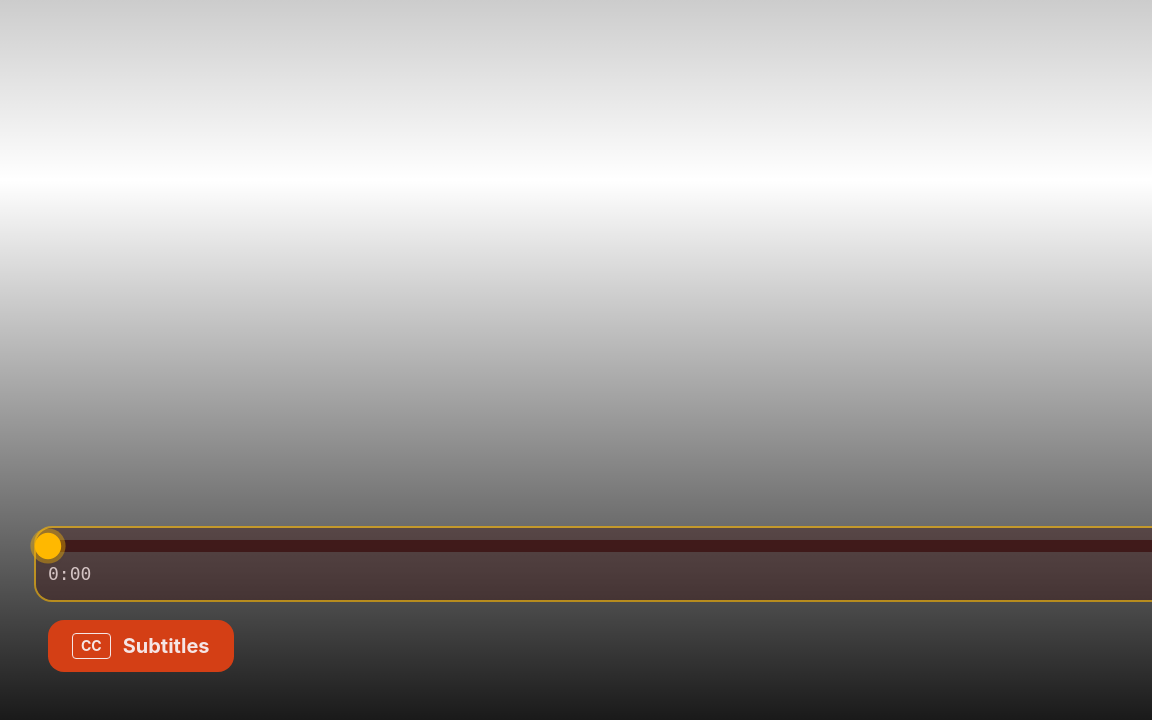
Test: PlayerScreen subtitle delay end-to-end via modal › reports a problem in the Timing tab when the subtitle file cannot be downloaded
(page scrolled)
Click the button with test id "subtitles-button" at [141, 646], box top-left (48, 620), bottom-right (234, 672)
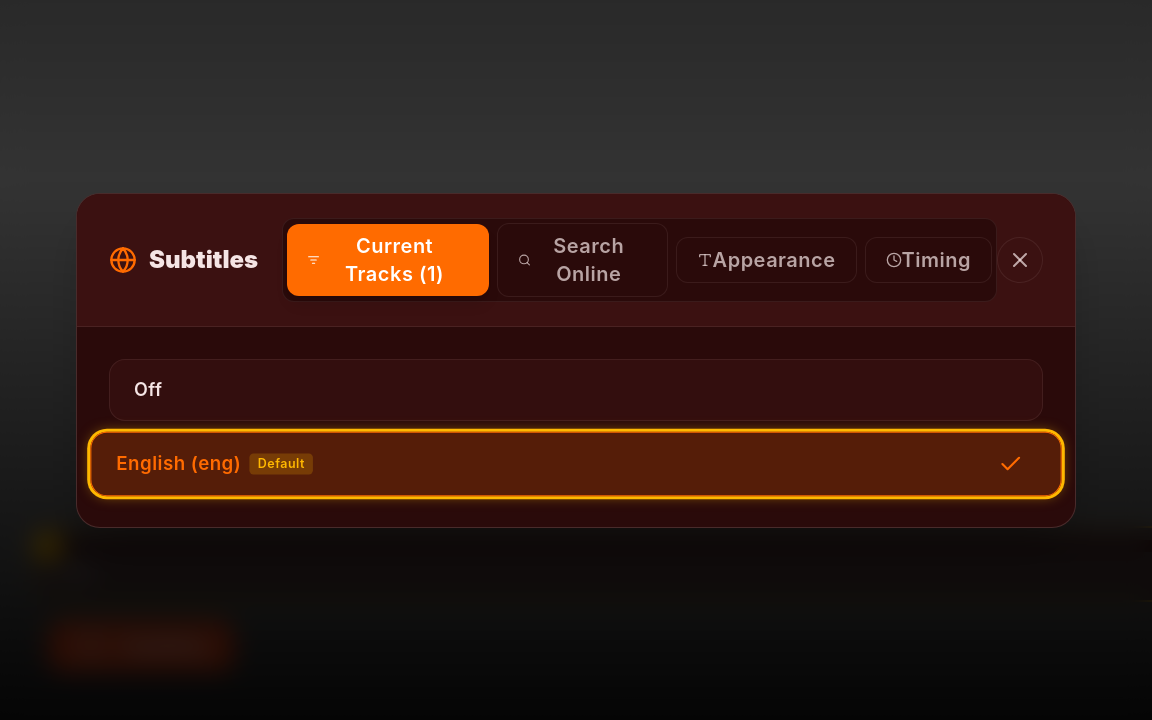
Click the button "Timing" at [928, 260], box top-left (865, 236), bottom-right (992, 282)
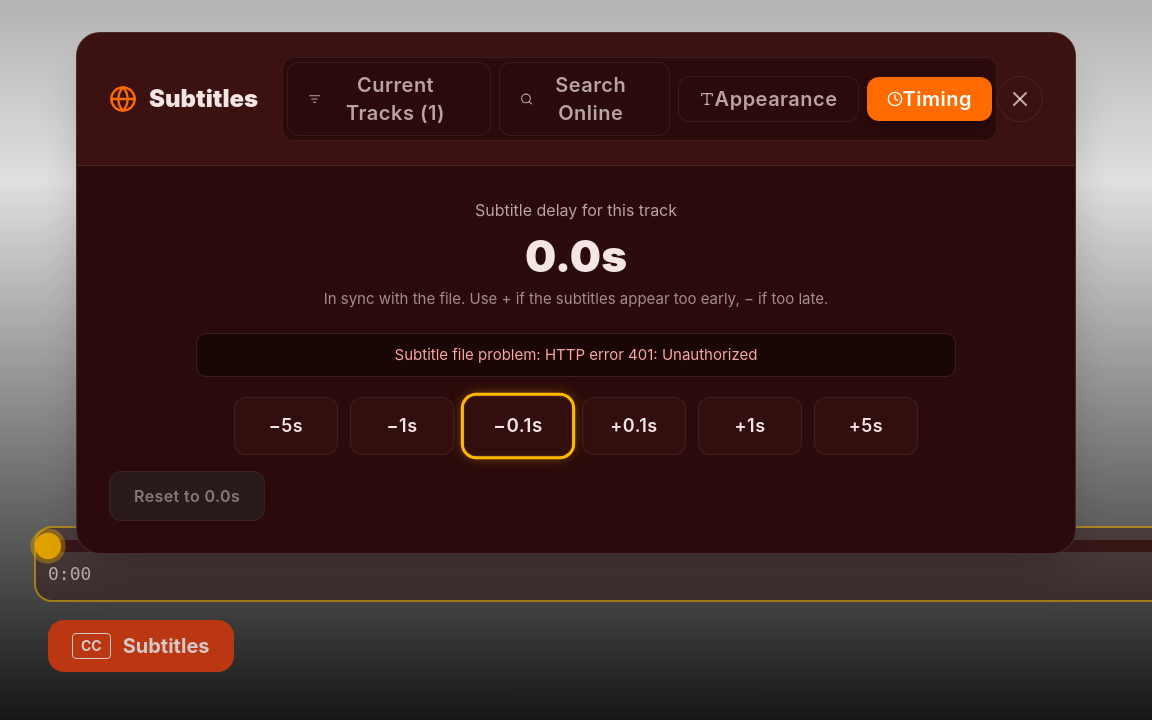
Now the element with test id "subtitle-delay-status" shows "401", box top-left (545, 344), bottom-right (757, 364)
